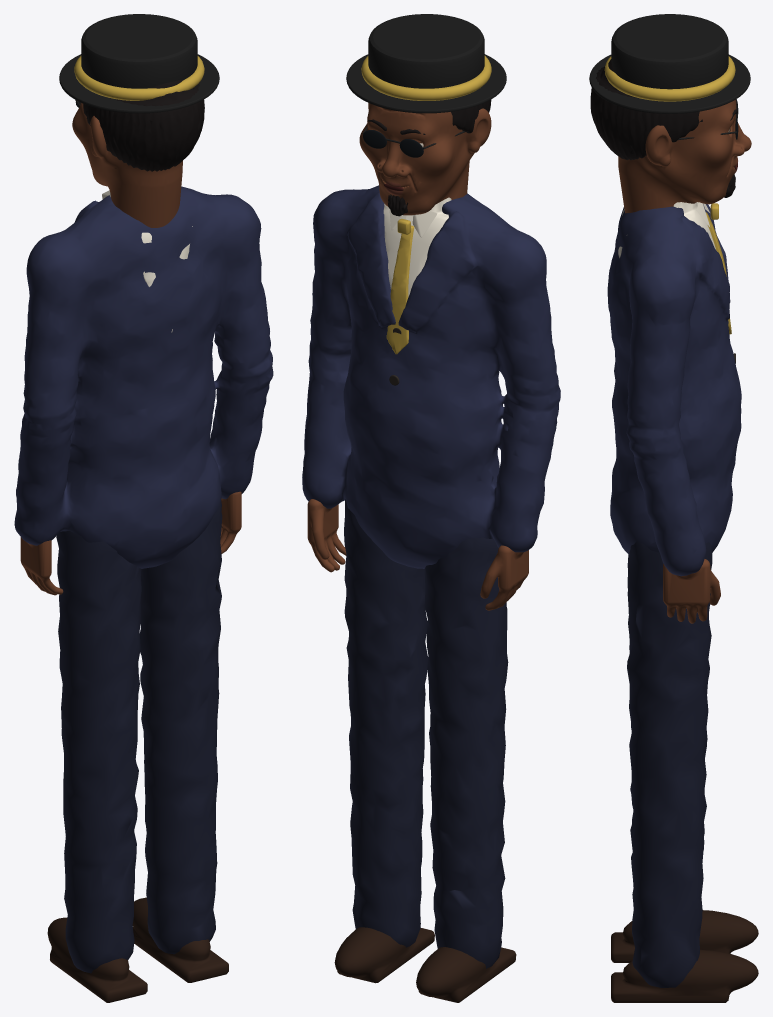
Rendered from lou.fbx.
The picture shows the model from 3 angles, left to right: view 1: azimuth 30°, elevation 25°; view 2: azimuth 150°, elevation 25°; view 3: azimuth 270°, elevation 25°; orthographic projection.
Visible parts, largest first — view 1: Body, Head, Hat, HandR, HandL; view 2: Body, Hat, Head, HandL, HandR; view 3: Body, Head, Hat, HandL.
Boxes of the visible parts, x1=… form: Body: x1=14, y1=186, x2=273, y2=1002; Head: x1=72, y1=80, x2=204, y2=227; Hat: x1=59, y1=14, x2=219, y2=113; HandR: x1=20, y1=537, x2=63, y2=595; HandL: x1=220, y1=491, x2=241, y2=553; Body: x1=302, y1=185, x2=560, y2=1002; Hat: x1=346, y1=14, x2=506, y2=113; Head: x1=359, y1=99, x2=491, y2=216; HandL: x1=307, y1=499, x2=346, y2=572; HandR: x1=480, y1=545, x2=528, y2=610; Body: x1=607, y1=202, x2=758, y2=1002; Head: x1=590, y1=59, x2=751, y2=213; Hat: x1=589, y1=14, x2=750, y2=113; HandL: x1=663, y1=559, x2=720, y2=623.
Bounding box in the file's own units: 0.48 × 1.75 × 0.2867.
